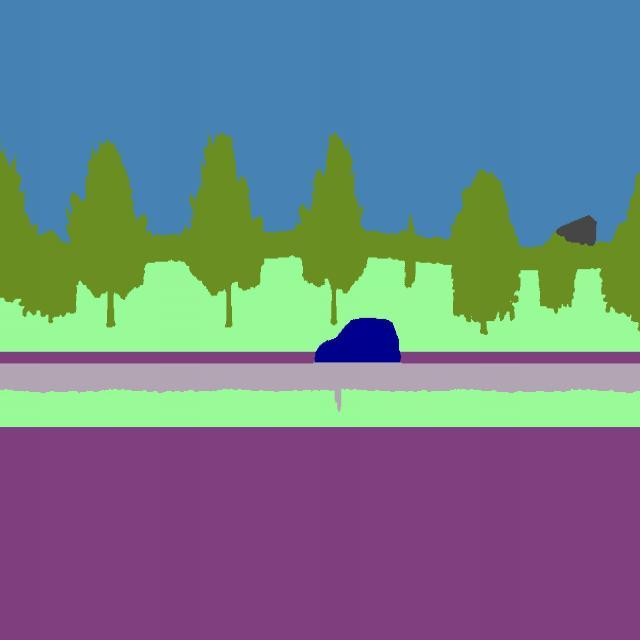safe: (313, 312, 402, 374)
